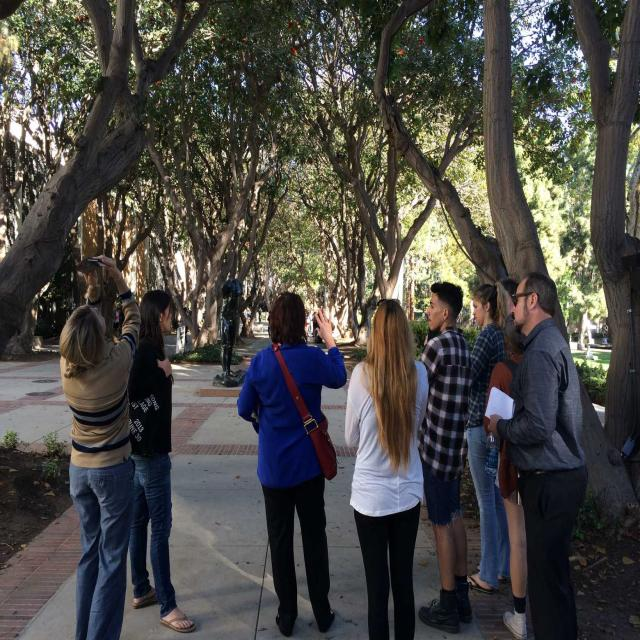body: (235, 288, 348, 640), (485, 268, 591, 640), (55, 252, 143, 640), (342, 294, 433, 639), (127, 290, 197, 633), (411, 279, 474, 635), (484, 311, 551, 640), (459, 282, 517, 595), (217, 266, 252, 385), (498, 274, 522, 313), (302, 308, 323, 342), (110, 300, 125, 338), (177, 305, 191, 344), (602, 322, 610, 346)
